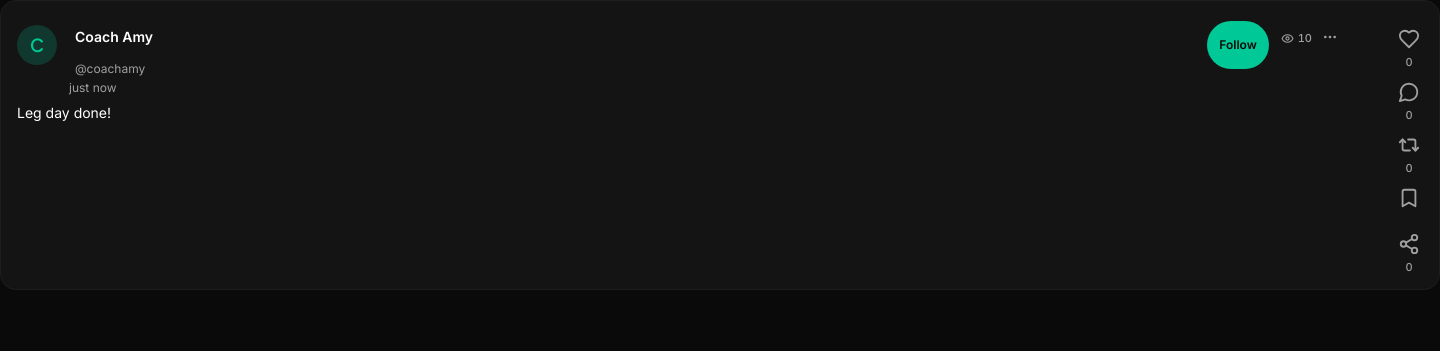
Test: PostCard repost avatar overlay › animates the viewer avatar out on unrepost
Click the button with test id "rail-repost" at (1409, 148), box [1387,123,1431,174]
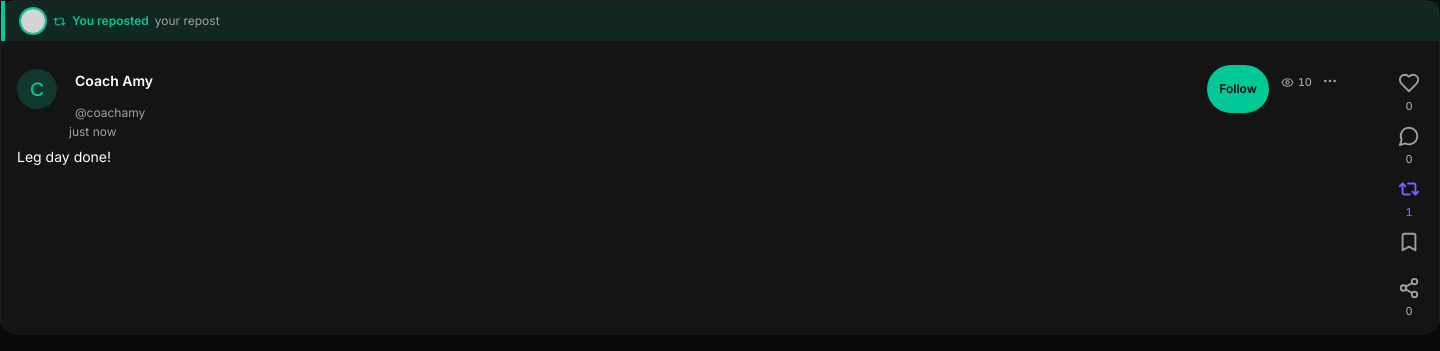
Click the button with test id "rail-repost" at (1409, 192), box [1387,167,1431,218]
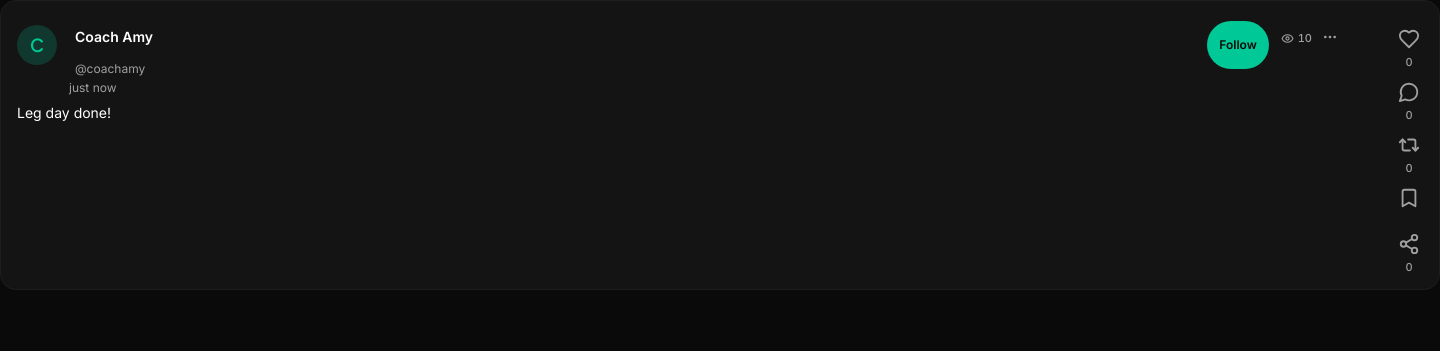
Expected: the element with test id "repost-viewer-avatar" is gone
